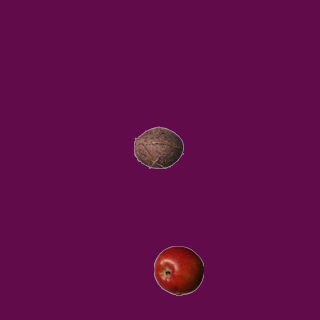Apple Braeburn: (153, 245, 203, 295)
Cocos: (133, 122, 183, 172)
